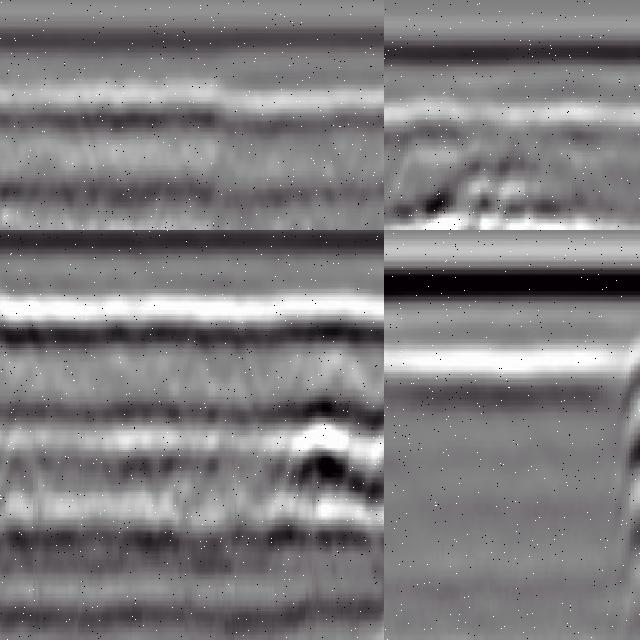crack: (614, 322, 640, 640)
loose: (257, 387, 385, 548), (389, 169, 626, 231), (1, 167, 215, 231)
